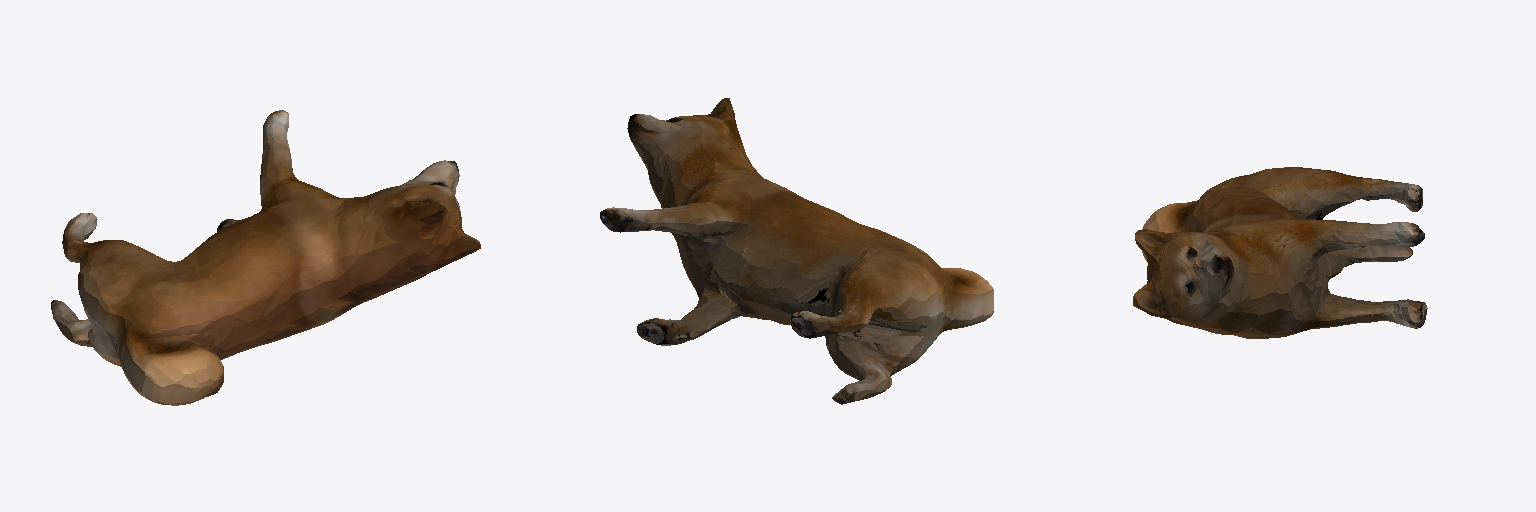
3 views of the same model, side by side, from view 1: azimuth 30°, elevation 25°; view 2: azimuth 150°, elevation 25°; view 3: azimuth 270°, elevation 25° (orthographic).
Bounding box in the file's own units: 0.6204 × 0.2763 × 0.4635.
1 materials, 1 textured.